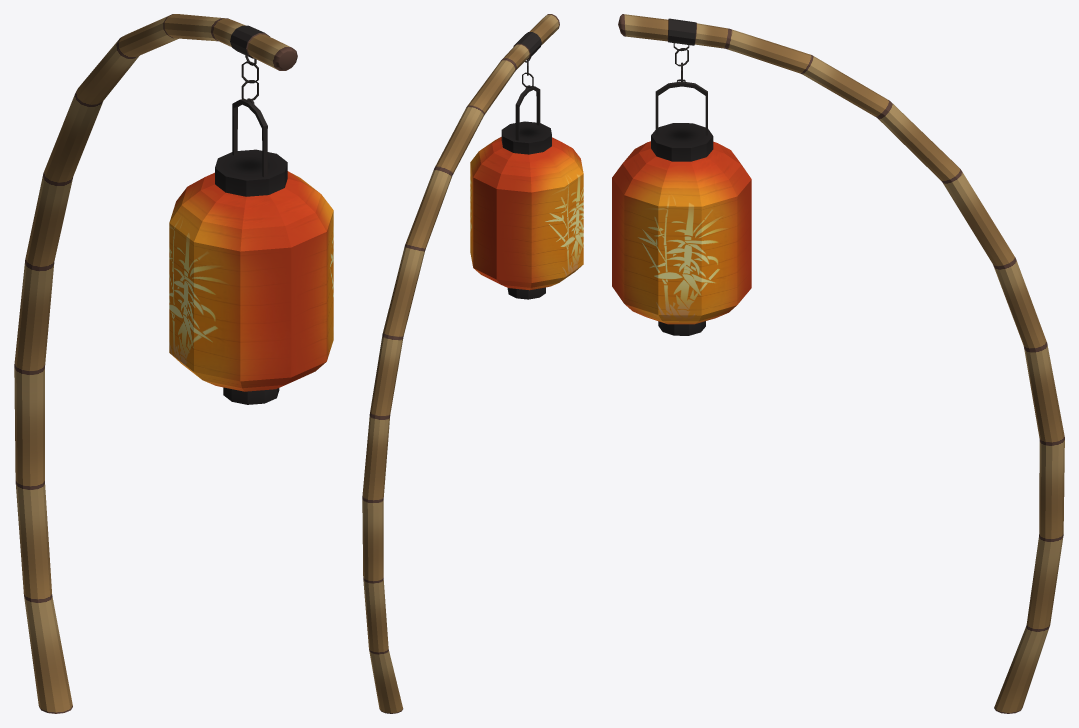
File: japanese_lanterns_01.fbx
3 views of the same model, side by side, from view 1: azimuth 30°, elevation 25°; view 2: azimuth 150°, elevation 25°; view 3: azimuth 270°, elevation 25° (orthographic). The views are drawn at different scales.
Parts seen in each view (by area): view 1: polySurface30; view 2: polySurface30; view 3: polySurface30.
Part boxes in pixels (left/top/right/bottom): polySurface30: left=14, top=14, right=333, bottom=713; polySurface30: left=362, top=14, right=583, bottom=713; polySurface30: left=612, top=14, right=1064, bottom=713.
Bounding box in the file's own units: 0.7724 × 4.4 × 2.61.
